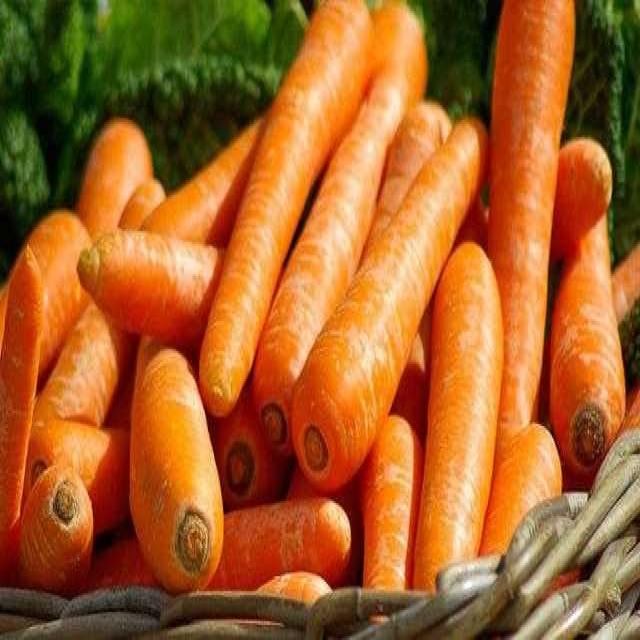carrots: (314, 109, 478, 475), (215, 1, 362, 399), (484, 2, 574, 422), (421, 224, 497, 613), (133, 334, 229, 586), (568, 135, 620, 466), (80, 111, 158, 261)
